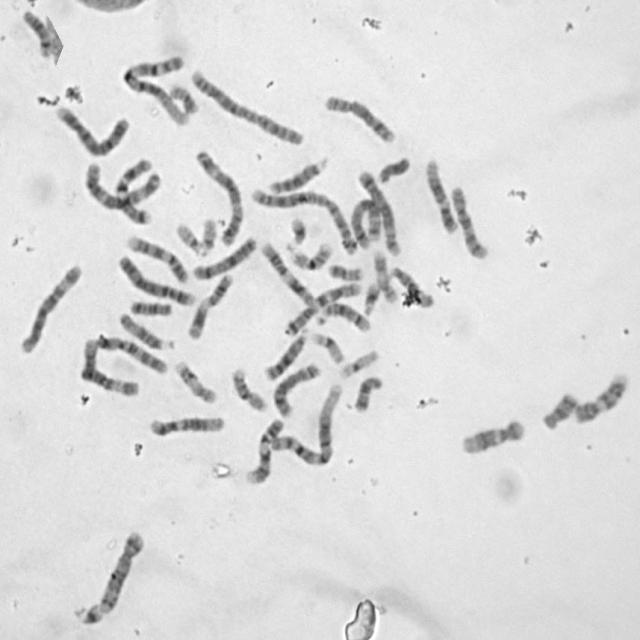A1: (269, 380, 344, 469), (118, 50, 192, 127)
A2: (186, 64, 307, 147), (246, 183, 360, 256)
A3: (192, 145, 246, 247), (80, 158, 160, 214)
B4: (114, 251, 198, 308), (52, 100, 132, 158)
B5: (353, 164, 404, 258), (96, 526, 146, 616)
C10: (92, 330, 170, 376), (447, 181, 491, 261)
C11: (258, 237, 318, 308), (184, 269, 237, 342)
C12: (422, 154, 461, 235), (146, 411, 227, 438)
C6: (16, 258, 84, 354), (77, 336, 141, 398)
C7: (282, 277, 364, 337), (111, 156, 155, 226)
C8: (320, 89, 398, 145), (270, 358, 322, 418)
C9: (123, 231, 189, 284), (571, 368, 631, 426)
D13: (261, 324, 311, 382), (267, 154, 330, 195)
D14: (314, 298, 372, 334), (18, 5, 54, 59)
D15: (115, 308, 175, 352), (388, 263, 436, 309)
E16: (228, 364, 269, 413), (286, 237, 335, 270)
E17: (171, 356, 219, 406), (370, 246, 400, 304)
E18: (538, 386, 580, 431), (350, 371, 385, 413)
F19: (335, 345, 381, 380), (307, 326, 346, 365)
F20: (166, 80, 198, 114), (324, 258, 365, 282)
G21: (283, 212, 310, 252), (360, 278, 382, 316)
G22: (173, 219, 209, 256), (195, 212, 219, 256)
X: (190, 231, 259, 281)
Y: (374, 152, 412, 185)
